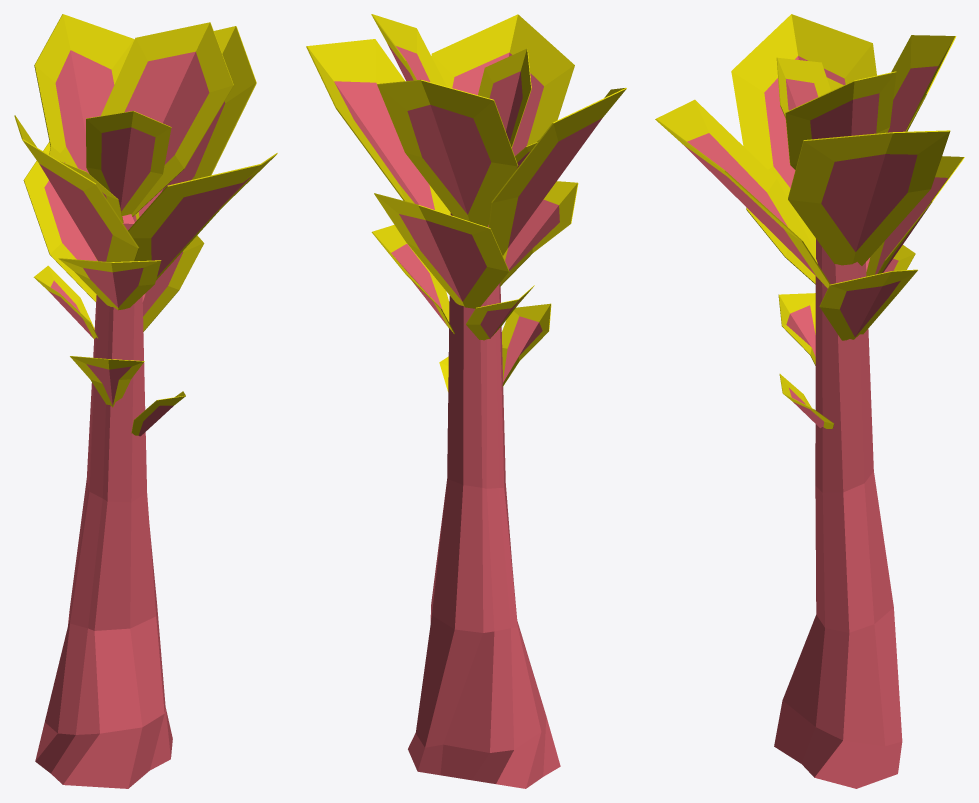
File: tree-crown-medium.fbx
3 views of the same model, side by side, from view 1: azimuth 30°, elevation 25°; view 2: azimuth 150°, elevation 25°; view 3: azimuth 270°, elevation 25° (orthographic). The views are drawn at different scales.
Visible parts, largest first — view 1: tree-crown-medium; view 2: tree-crown-medium; view 3: tree-crown-medium.
Part boxes in pixels (x1,y1,x2,y2): tree-crown-medium: (14,14,277,788); tree-crown-medium: (306,14,626,788); tree-crown-medium: (655,14,964,788).
Bounding box in the file's own units: 1.84 × 4.73 × 1.83.
